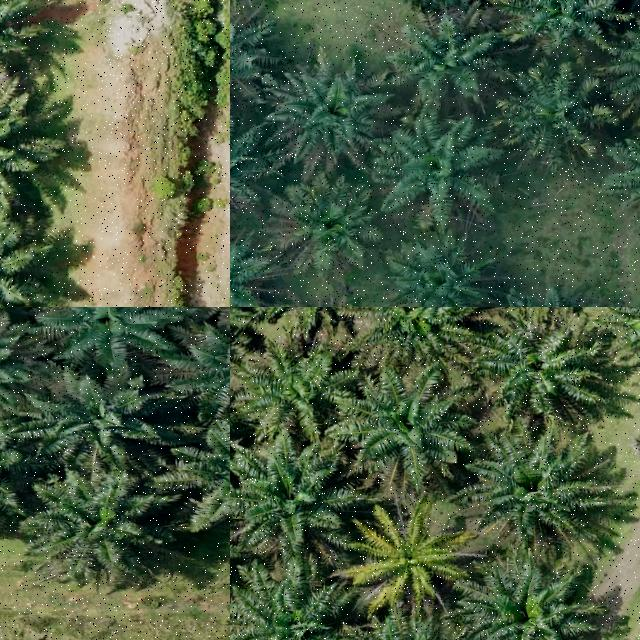Ganoderma: (363, 522, 455, 600)
